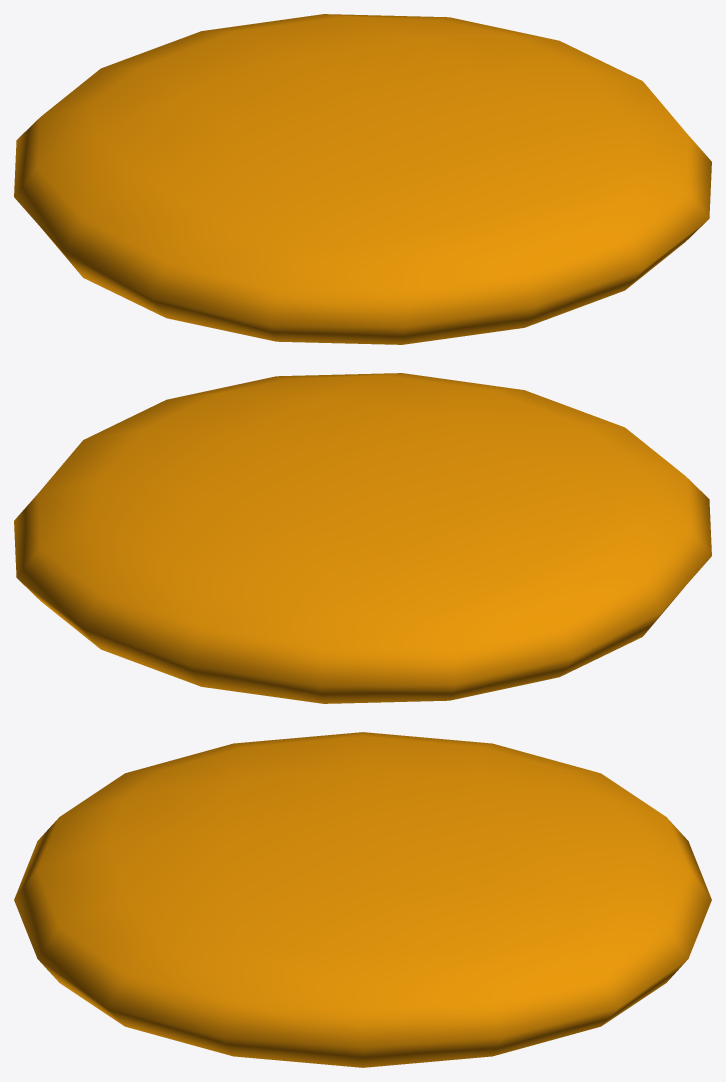
File: field.fbx
3 renders of one model, top to bottom at view 1: azimuth 30°, elevation 25°; view 2: azimuth 150°, elevation 25°; view 3: azimuth 270°, elevation 25°, orthographic.
Parts seen in each view (by area): view 1: Cube.002; view 2: Cube.002; view 3: Cube.002.
Part boxes in pixels (x1,y1,x2,y2): Cube.002: (14, 14, 711, 344); Cube.002: (14, 373, 711, 703); Cube.002: (14, 732, 711, 1067).
Size of the model in its own units: 569 by 137 by 569.
